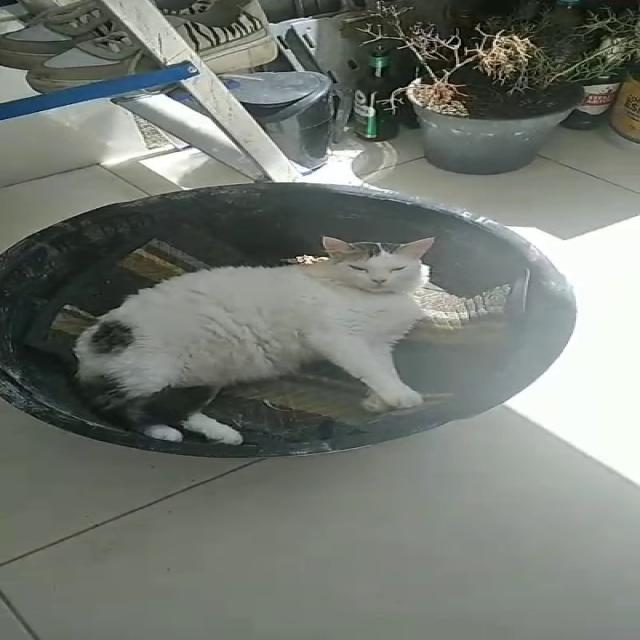Simba: (44, 231, 514, 424)
